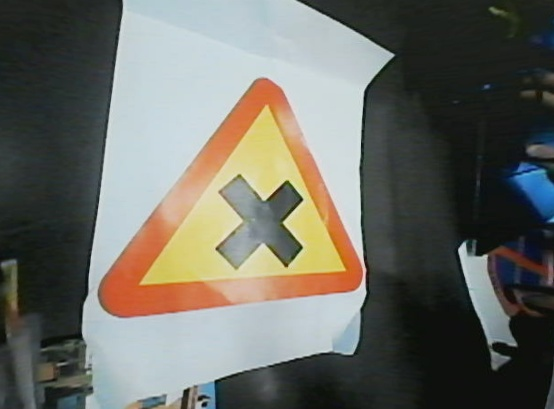junction: (90, 70, 369, 316)
